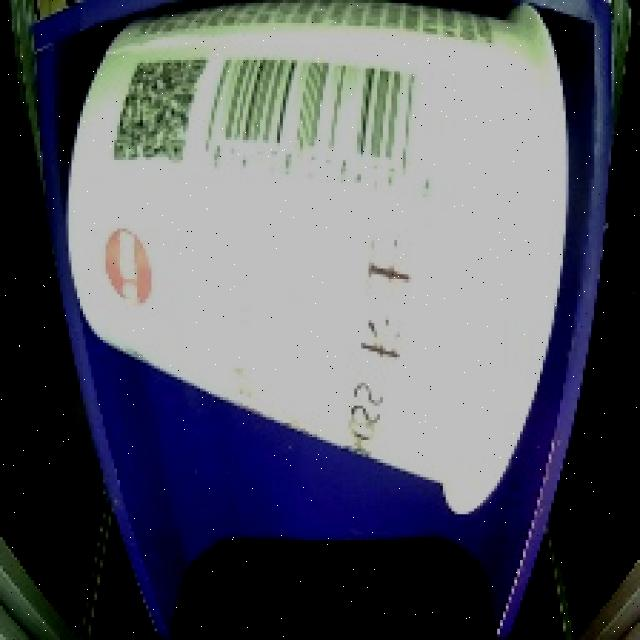cups: (51, 0, 580, 524)
